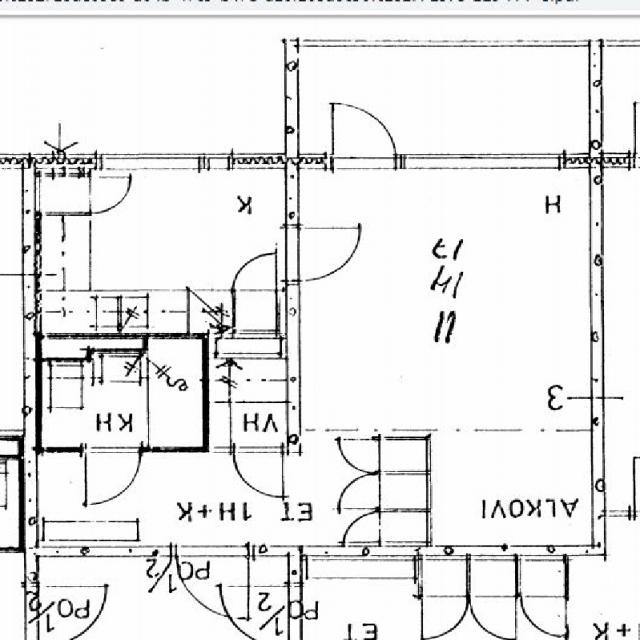door: (176, 545, 248, 619), (333, 100, 393, 168), (86, 447, 139, 501), (87, 178, 131, 212), (339, 475, 380, 508), (343, 440, 380, 470), (344, 513, 380, 543)
